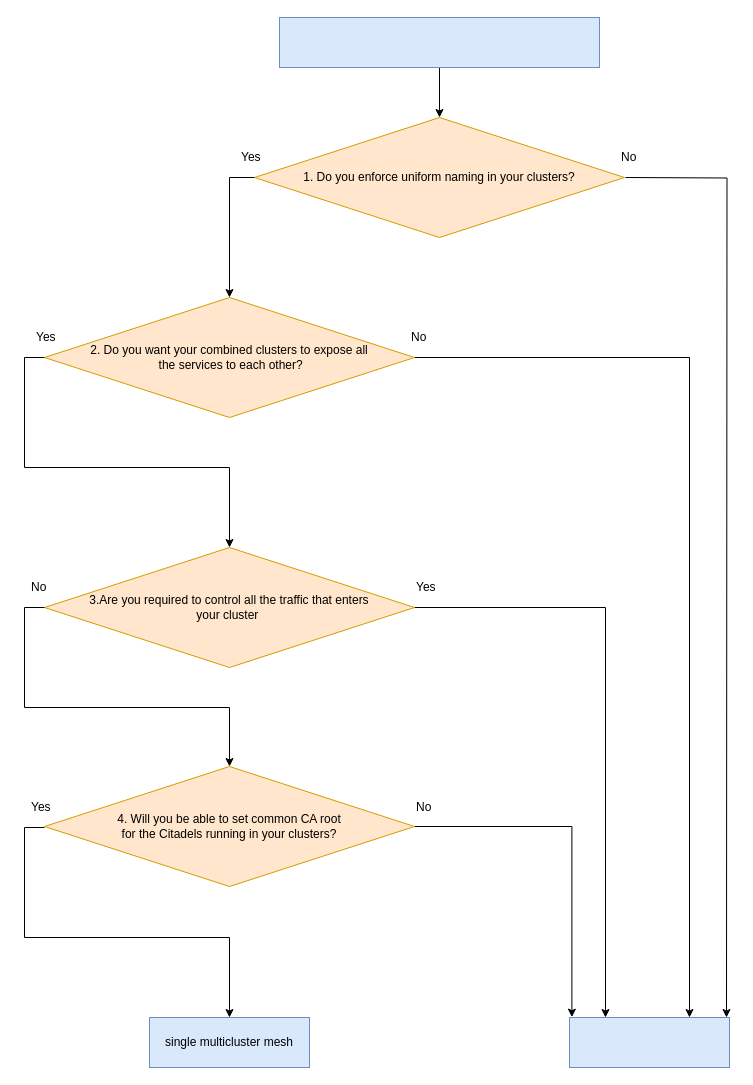
Image size: 753x1085. Some labels were removed from this diagram. The shapes that lost their labels are listed below. From the top down, each one's centre as x and y in pixels, then its label:
At [439,42]: "Select single multicluster mesh or mesh federation.".
At [649,1042]: "mesh federation".
